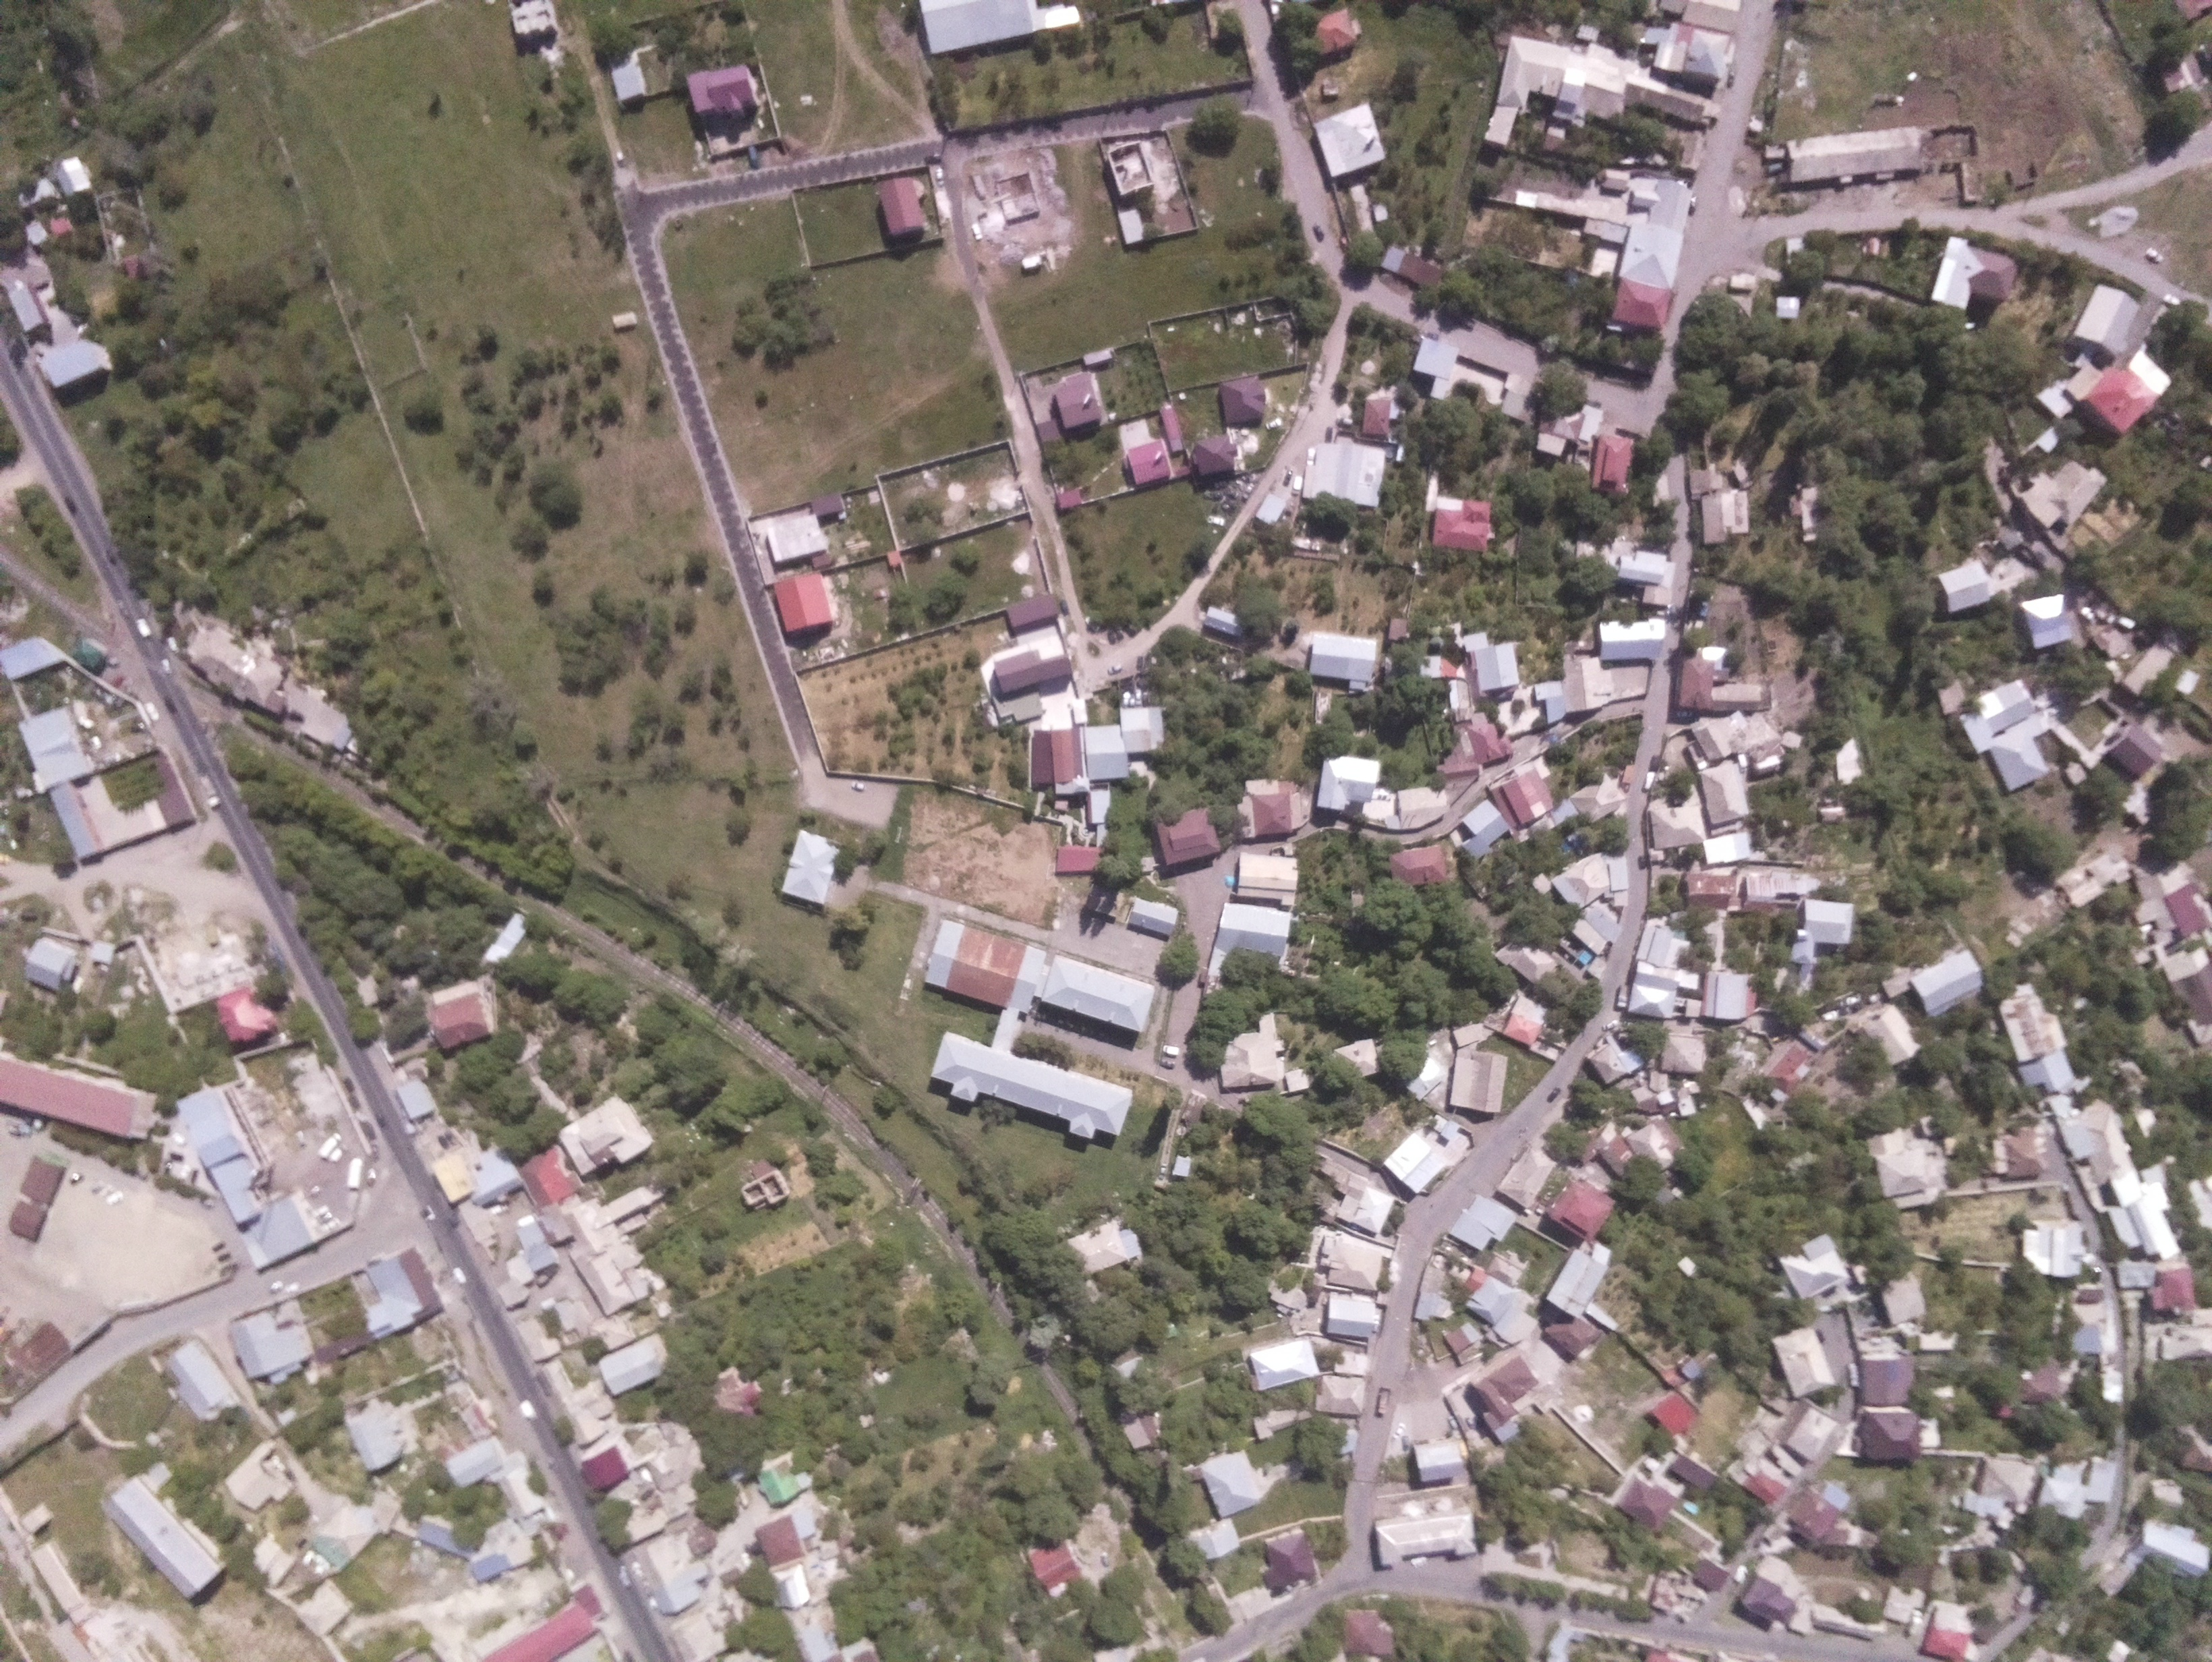car: (316, 1131, 347, 1156), (2142, 243, 2167, 267), (967, 218, 988, 246), (1309, 220, 1330, 248), (1543, 1082, 1564, 1109), (1440, 1412, 1463, 1435), (1262, 415, 1287, 436), (1159, 1042, 1185, 1061), (931, 166, 950, 190), (1205, 510, 1229, 529), (1685, 192, 1700, 220), (611, 148, 630, 171), (1103, 658, 1126, 677), (1287, 473, 1306, 496), (1158, 1054, 1182, 1072), (1734, 752, 1751, 777), (848, 777, 869, 796), (1390, 1421, 1409, 1442), (1601, 1016, 1622, 1035), (1276, 466, 1295, 487), (1334, 412, 1355, 431), (1304, 445, 1320, 470), (1398, 1433, 1416, 1453)
truck: (1683, 737, 1709, 773), (1370, 1384, 1395, 1419), (1613, 985, 1632, 1013)
